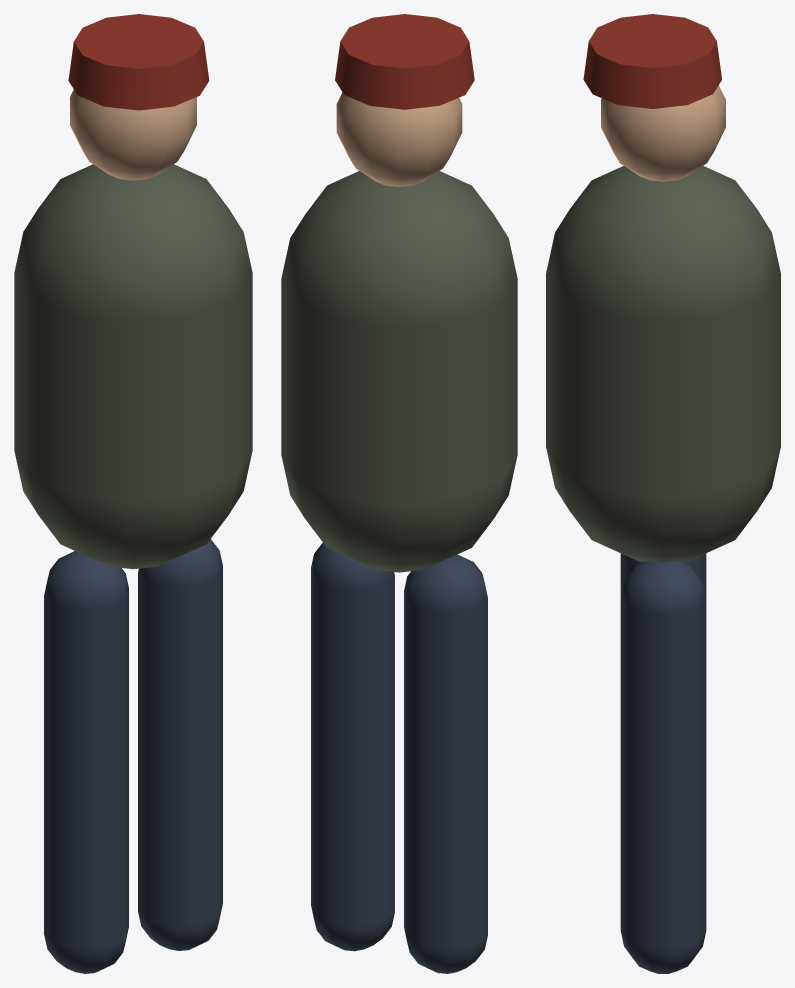
Rendered from farmer.glb.
3 views of the same model, side by side, from view 1: azimuth 30°, elevation 25°; view 2: azimuth 150°, elevation 25°; view 3: azimuth 270°, elevation 25° (orthographic).
Visible parts, largest first — view 1: torso, legR, legL, hat, head; view 2: torso, legR, legL, hat, head; view 3: torso, legL, hat, head, legR.
Boxes of the visible parts, left/top/right/bottom form: torso: left=14, top=164, right=252, bottom=569; legR: left=44, top=551, right=128, bottom=973; legL: left=138, top=539, right=222, bottom=950; hat: left=68, top=14, right=209, bottom=110; head: left=70, top=89, right=196, bottom=180; torso: left=281, top=171, right=517, bottom=572; legR: left=404, top=554, right=487, bottom=973; legL: left=311, top=542, right=394, bottom=951; hat: left=335, top=14, right=474, bottom=109; head: left=336, top=92, right=462, bottom=186; torso: left=546, top=166, right=780, bottom=561; legL: left=620, top=561, right=706, bottom=973; hat: left=583, top=14, right=721, bottom=108; head: left=601, top=85, right=725, bottom=181; legR: left=620, top=553, right=706, bottom=597.
Size of the model in its own units: 0.44 by 1.88 by 0.44.
